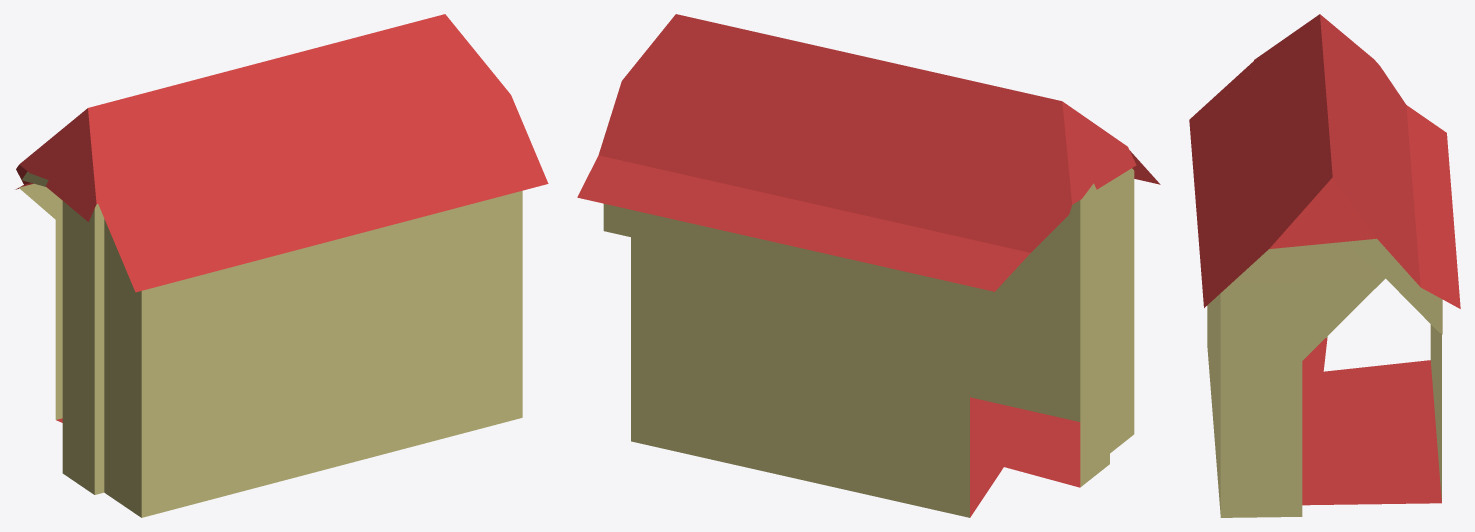
The picture shows the model from 3 angles, left to right: view 1: azimuth 30°, elevation 25°; view 2: azimuth 150°, elevation 25°; view 3: azimuth 270°, elevation 25°; orthographic projection. The views are drawn at different scales.
Bounding box in the file's own units: 20.03 × 11.74 × 15.92.
